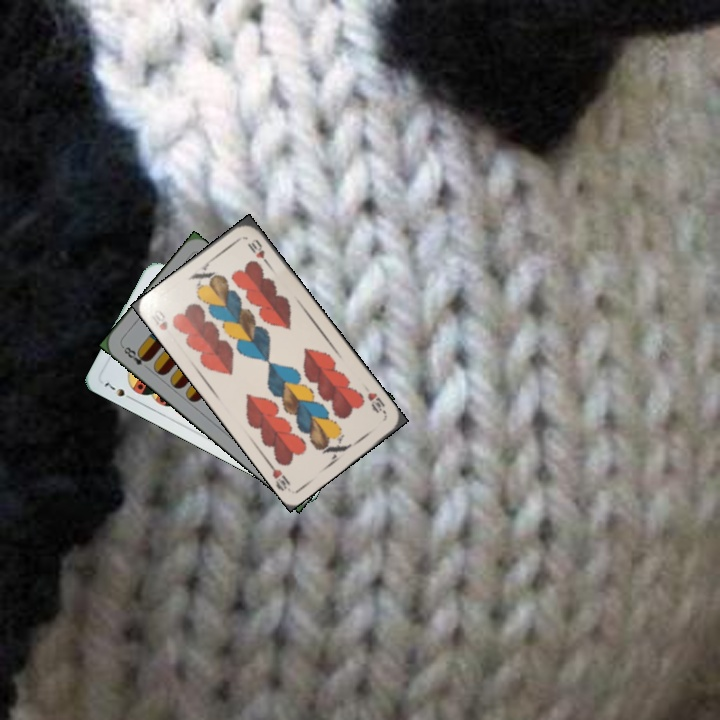E8: (118, 342, 152, 368)
H10: (363, 388, 389, 417), (149, 305, 170, 333)
S7: (100, 378, 137, 403)
